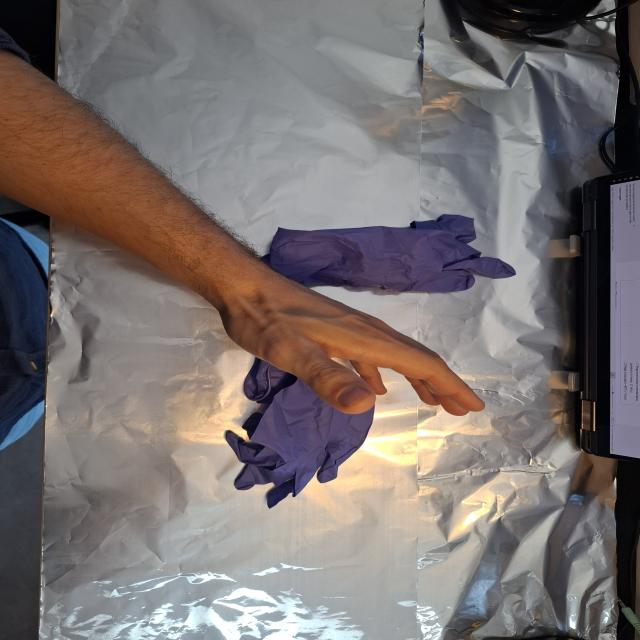glove_off: (213, 261, 489, 417)
